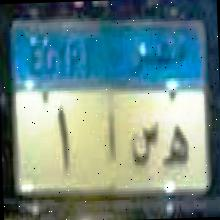1: (54, 98, 72, 178)
alif: (103, 107, 120, 164)
haa: (161, 114, 191, 176)
seen: (126, 113, 160, 172)
